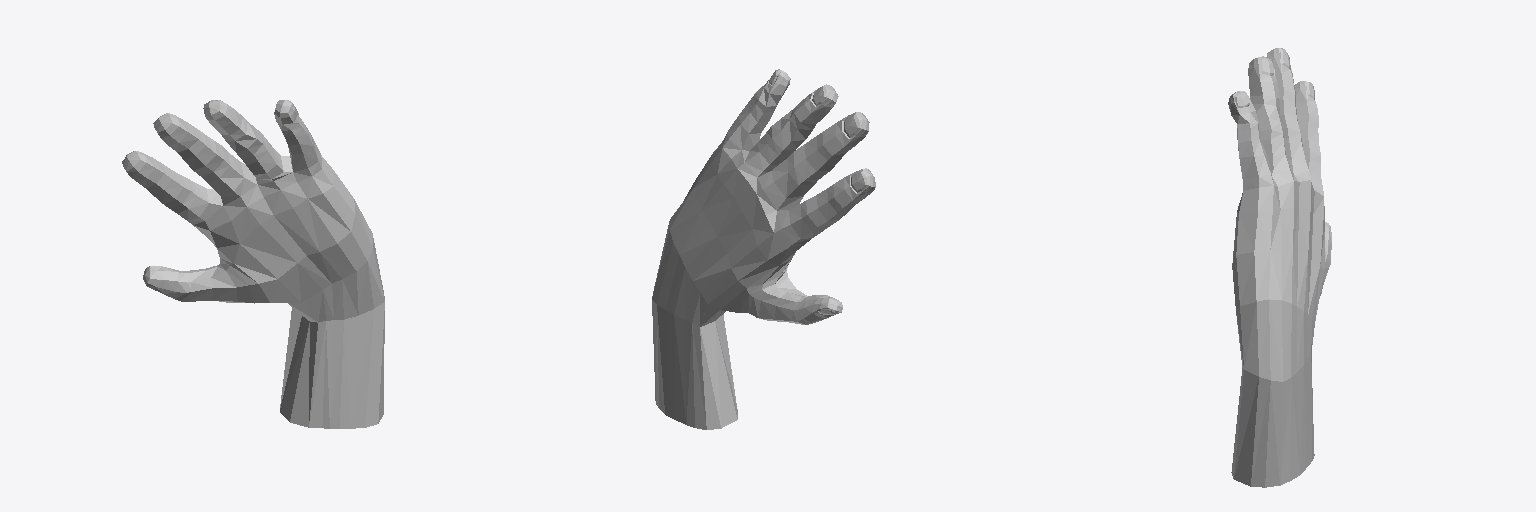
The model's file is handAnimated4_000163.obj.
The picture shows the model from 3 angles: view 1: azimuth 30°, elevation 25°; view 2: azimuth 150°, elevation 25°; view 3: azimuth 270°, elevation 25°; orthographic projection.
Parts seen in each view (by area): view 1: Cube.000_Cube.017_Detached_Detached; view 2: Cube.000_Cube.017_Detached_Detached; view 3: Cube.000_Cube.017_Detached_Detached.
Part boxes in pixels (bbox=[...]): Cube.000_Cube.017_Detached_Detached: bbox=[122, 100, 384, 428]; Cube.000_Cube.017_Detached_Detached: bbox=[652, 69, 875, 429]; Cube.000_Cube.017_Detached_Detached: bbox=[1228, 48, 1331, 487].
Size of the model in its own units: 0.8241 by 1.16 by 0.3096.